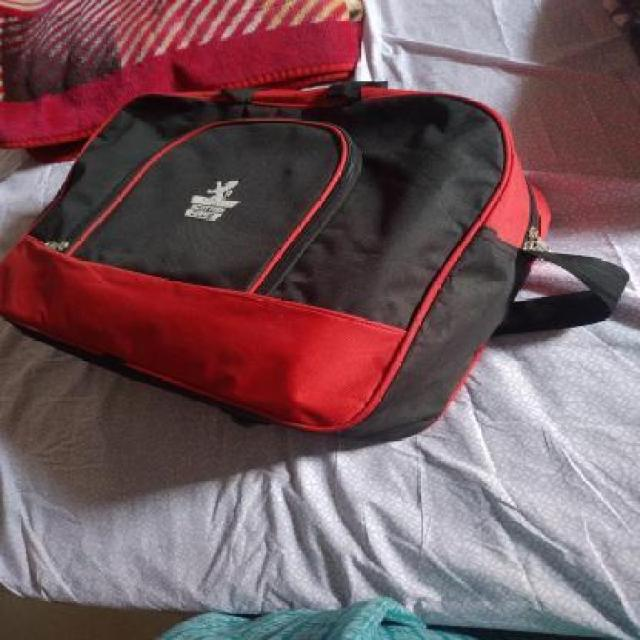backpack: (2, 72, 560, 448)
